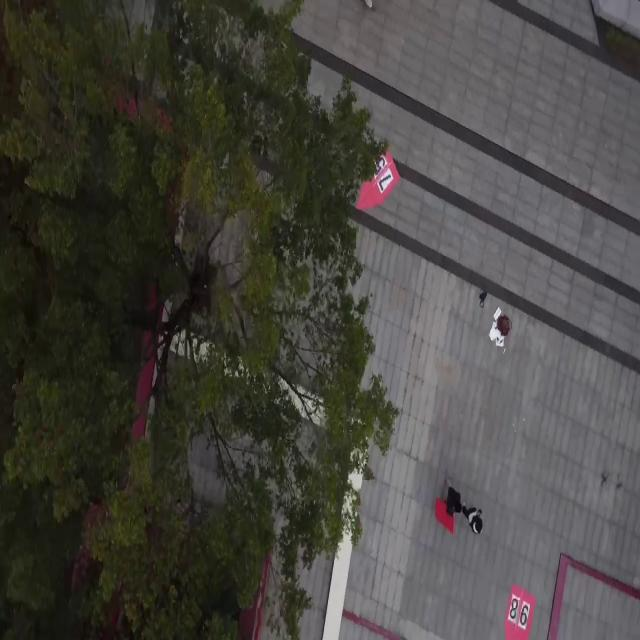-sign-: (356, 146, 402, 212), (504, 584, 535, 639)
